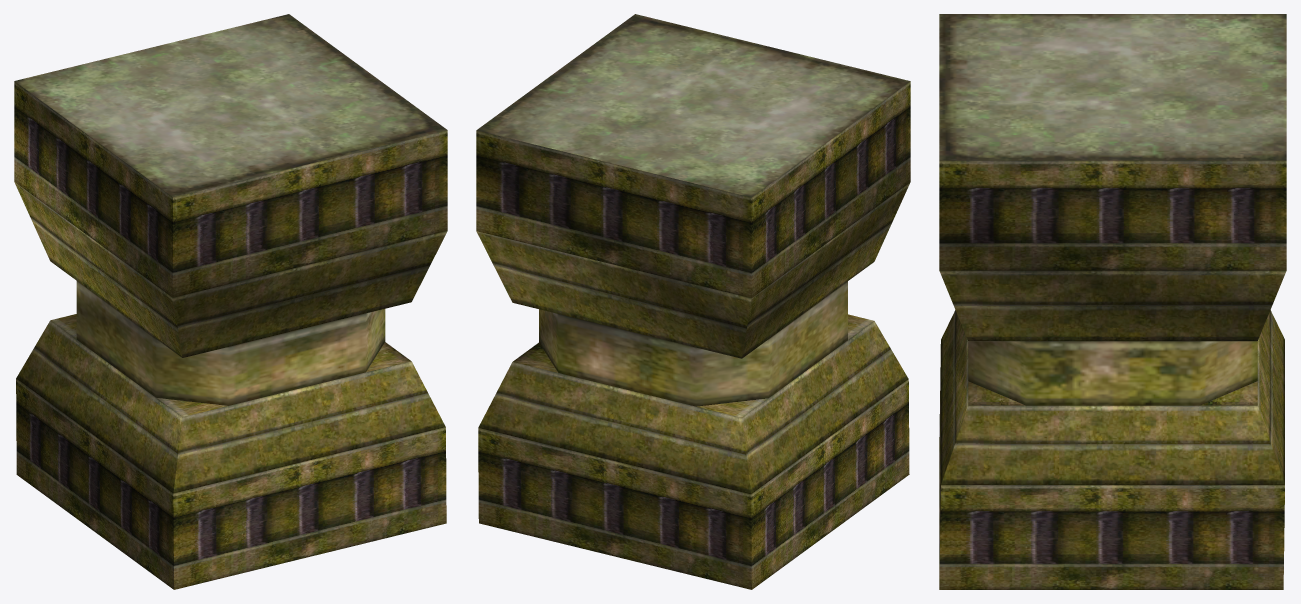
The model's file is OVERHILL_A_01_OBJECT238.fbx.
The picture shows the model from 3 angles, left to right: view 1: azimuth 30°, elevation 25°; view 2: azimuth 150°, elevation 25°; view 3: azimuth 270°, elevation 25°; orthographic projection. The views are drawn at different scales.
Parts seen in each view (by area): view 1: OVERHILL_A_01_OBJECT238; view 2: OVERHILL_A_01_OBJECT238; view 3: OVERHILL_A_01_OBJECT238.
Boxes of the visible parts, x1,y1,x2,y2 form: OVERHILL_A_01_OBJECT238: (14, 14, 447, 589); OVERHILL_A_01_OBJECT238: (476, 14, 910, 589); OVERHILL_A_01_OBJECT238: (939, 14, 1286, 589).
Bounding box in the file's own units: 18045 × 24652 × 18045.
5 materials, 5 textured.
